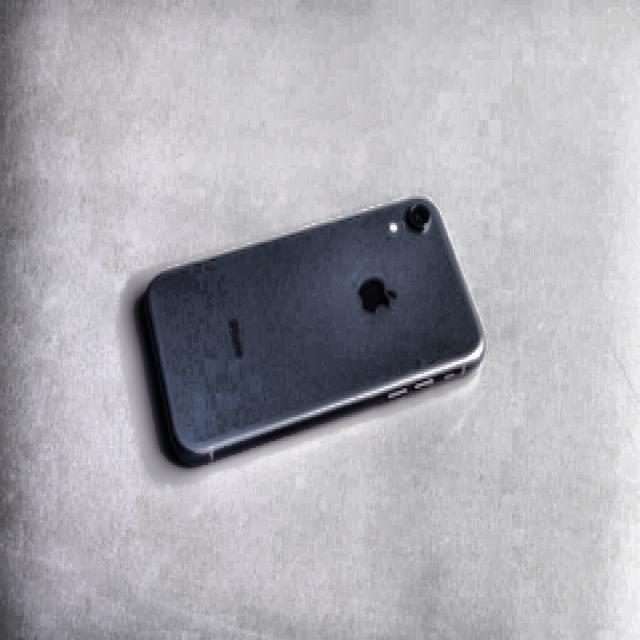Phone: (134, 192, 489, 464)
